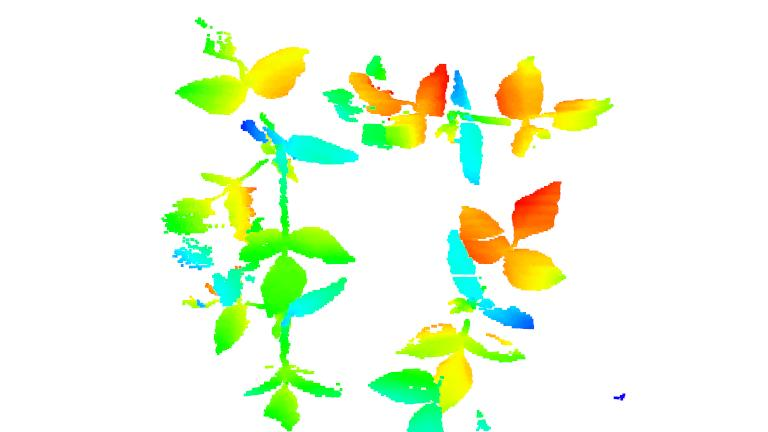mungbean: (157, 16, 358, 317), (369, 176, 577, 431), (321, 47, 614, 182), (205, 269, 348, 432)
